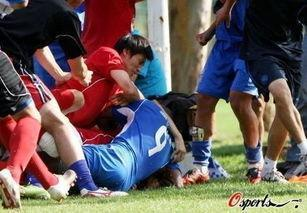Fall-Detected: (11, 74, 196, 199)
